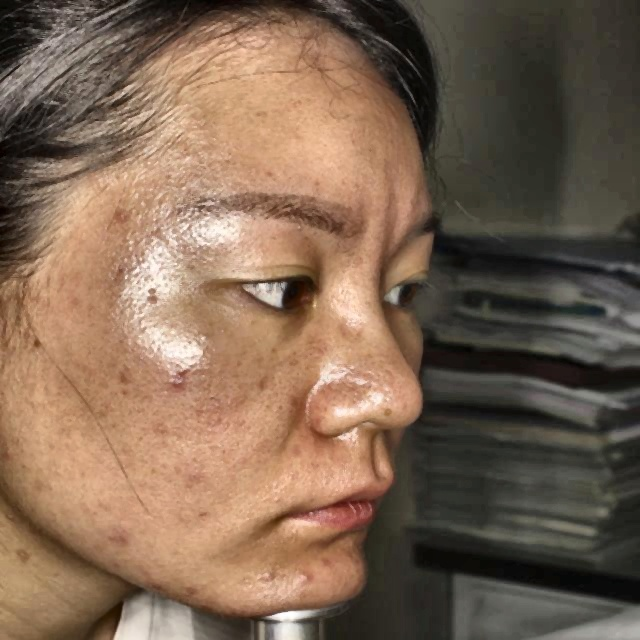pustule: (180, 581, 213, 613), (110, 520, 144, 550), (245, 566, 284, 588), (169, 370, 201, 396), (289, 566, 317, 593), (147, 567, 170, 594)
